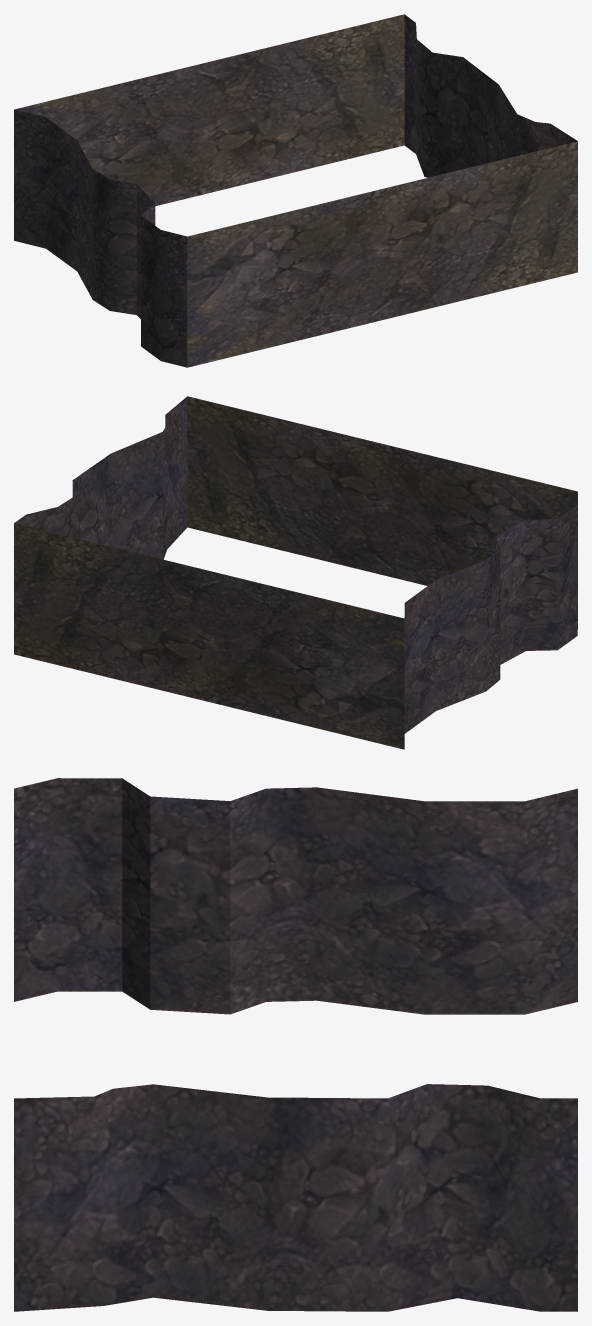
The model's file is scenes_village_road02.FBX.
3 renders of one model, top to bottom at view 1: azimuth 30°, elevation 25°; view 2: azimuth 150°, elevation 25°; view 3: azimuth 270°, elevation 25°, orthographic. The views are drawn at different scales.
Parts seen in each view (by area): view 1: scenes_village_road02; view 2: scenes_village_road02; view 3: scenes_village_road02.
Boxes of the visible parts, x1=… form: scenes_village_road02: x1=14, y1=14, x2=577, y2=367; scenes_village_road02: x1=14, y1=396, x2=577, y2=749; scenes_village_road02: x1=14, y1=778, x2=577, y2=1311.
Size of the model in its own units: 1075 by 334 by 800.
